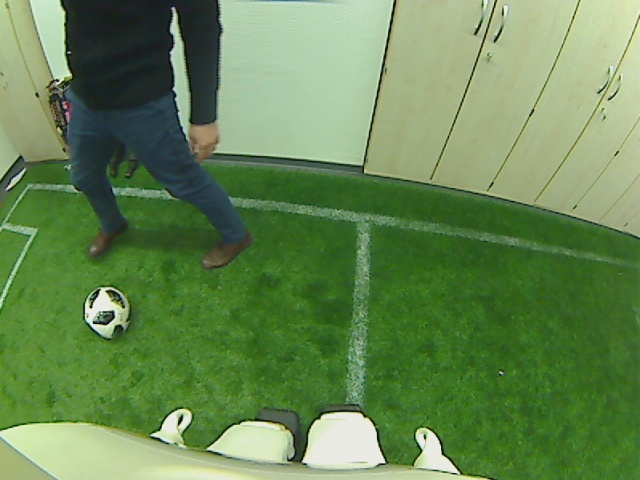ball: (82, 284, 131, 341)
